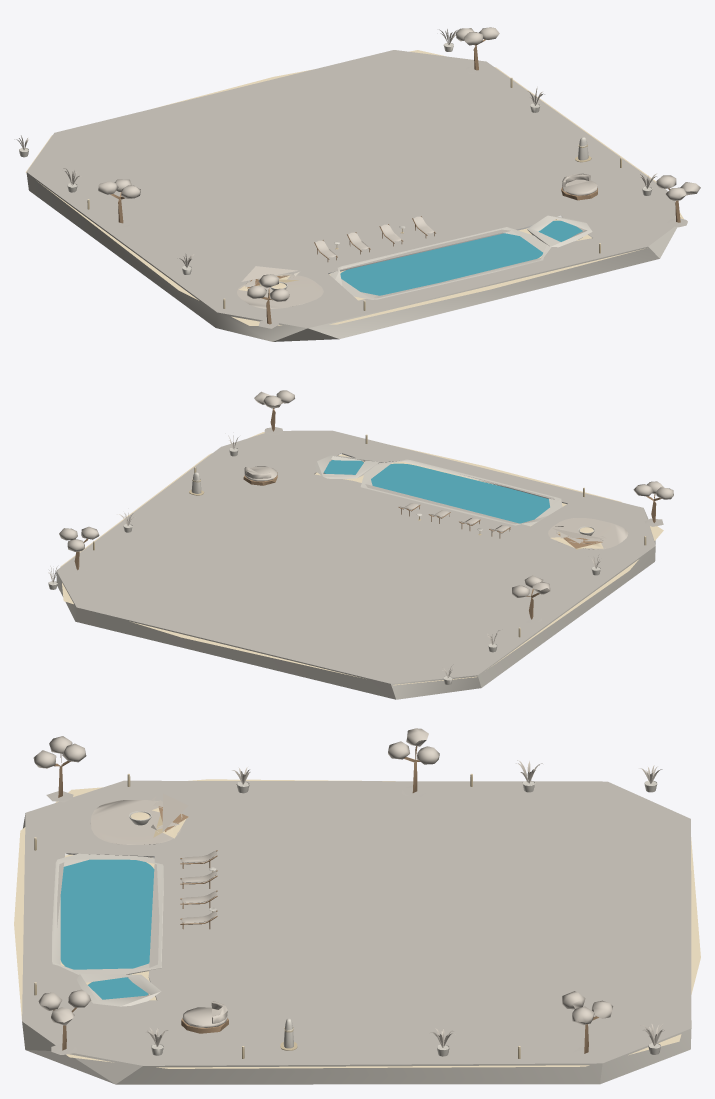
Rendered from Villa_Core_LOD2.dae.
3 views of the same model, one above another, from view 1: azimuth 30°, elevation 25°; view 2: azimuth 150°, elevation 25°; view 3: azimuth 270°, elevation 25° (orthographic). The views are drawn at different scales.
Parts seen in each view (by area): view 1: Site_Deck_LOD2, Site_Water_LOD2, Site_Coping_LOD2, Site_Rug_LOD2, Site_Olive_1_LOD2, Site_Olive_2_LOD2, Site_Olive_3_LOD2, Site_Daybed_LOD2, Site_Olive_4_LOD2, Site_Lounge_Sofa_LOD2; view 2: Site_Deck_LOD2, Site_Water_LOD2, Site_Coping_LOD2, Site_Rug_LOD2, Site_Olive_4_LOD2, Site_Olive_3_LOD2, Site_Olive_1_LOD2, Site_Olive_2_LOD2, Site_Lounge_Sofa_LOD2, Site_Daybed_LOD2; view 3: Site_Deck_LOD2, Site_Water_LOD2, Site_Coping_LOD2, Site_Rug_LOD2, Site_Olive_3_LOD2, Site_Olive_1_LOD2, Site_Olive_4_LOD2, Site_Olive_2_LOD2, Site_Daybed_LOD2, Site_Lounge_Sofa_LOD2.
Part boxes in pixels (x1,y1,x2,y2): Site_Deck_LOD2: (25,50,683,341); Site_Water_LOD2: (340,220,582,295); Site_Coping_LOD2: (330,215,592,299); Site_Rug_LOD2: (237,275,323,308); Site_Olive_1_LOD2: (247,274,289,328); Site_Olive_2_LOD2: (656,175,700,227); Site_Olive_3_LOD2: (98,179,140,227); Site_Daybed_LOD2: (561,173,597,200); Site_Olive_4_LOD2: (456,27,499,73); Site_Lounge_Sofa_LOD2: (239,266,299,290); Site_Deck_LOD2: (56,430,663,699); Site_Water_LOD2: (324,460,549,523); Site_Coping_LOD2: (315,455,562,525); Site_Rug_LOD2: (548,518,628,549); Site_Olive_4_LOD2: (59,526,99,573); Site_Olive_3_LOD2: (512,575,550,623); Site_Olive_1_LOD2: (633,481,673,526); Site_Olive_2_LOD2: (254,390,294,434); Site_Lounge_Sofa_LOD2: (550,526,605,549); Site_Daybed_LOD2: (243,466,277,485); Site_Deck_LOD2: (14,779,700,1084); Site_Water_LOD2: (60,859,154,999); Site_Coping_LOD2: (52,853,163,1006); Site_Rug_LOD2: (90,800,181,844); Site_Olive_3_LOD2: (388,728,439,796); Site_Olive_1_LOD2: (33,736,86,802); Site_Olive_4_LOD2: (562,991,612,1058); Site_Olive_2_LOD2: (38,989,91,1054); Site_Daybed_LOD2: (181,1001,228,1033); Site_Lounge_Sofa_LOD2: (151,793,188,838).
Bounding box in the file's own units: 36.06 × 36.06 × 4.61.
